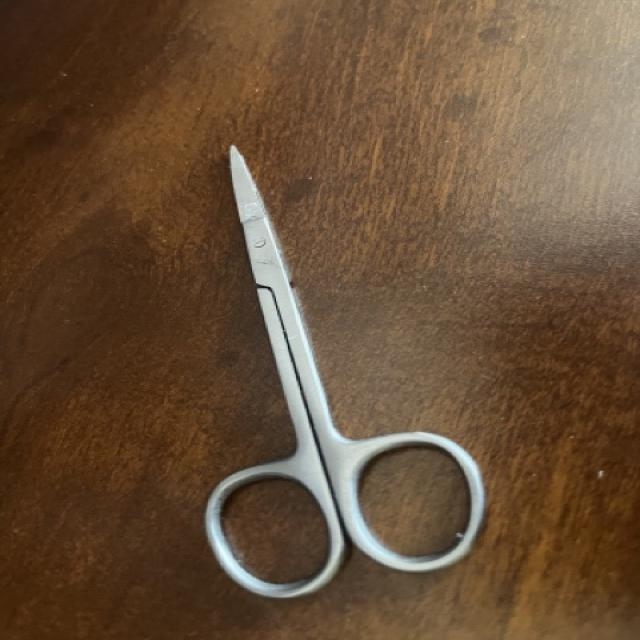scissor: (199, 141, 496, 609)
